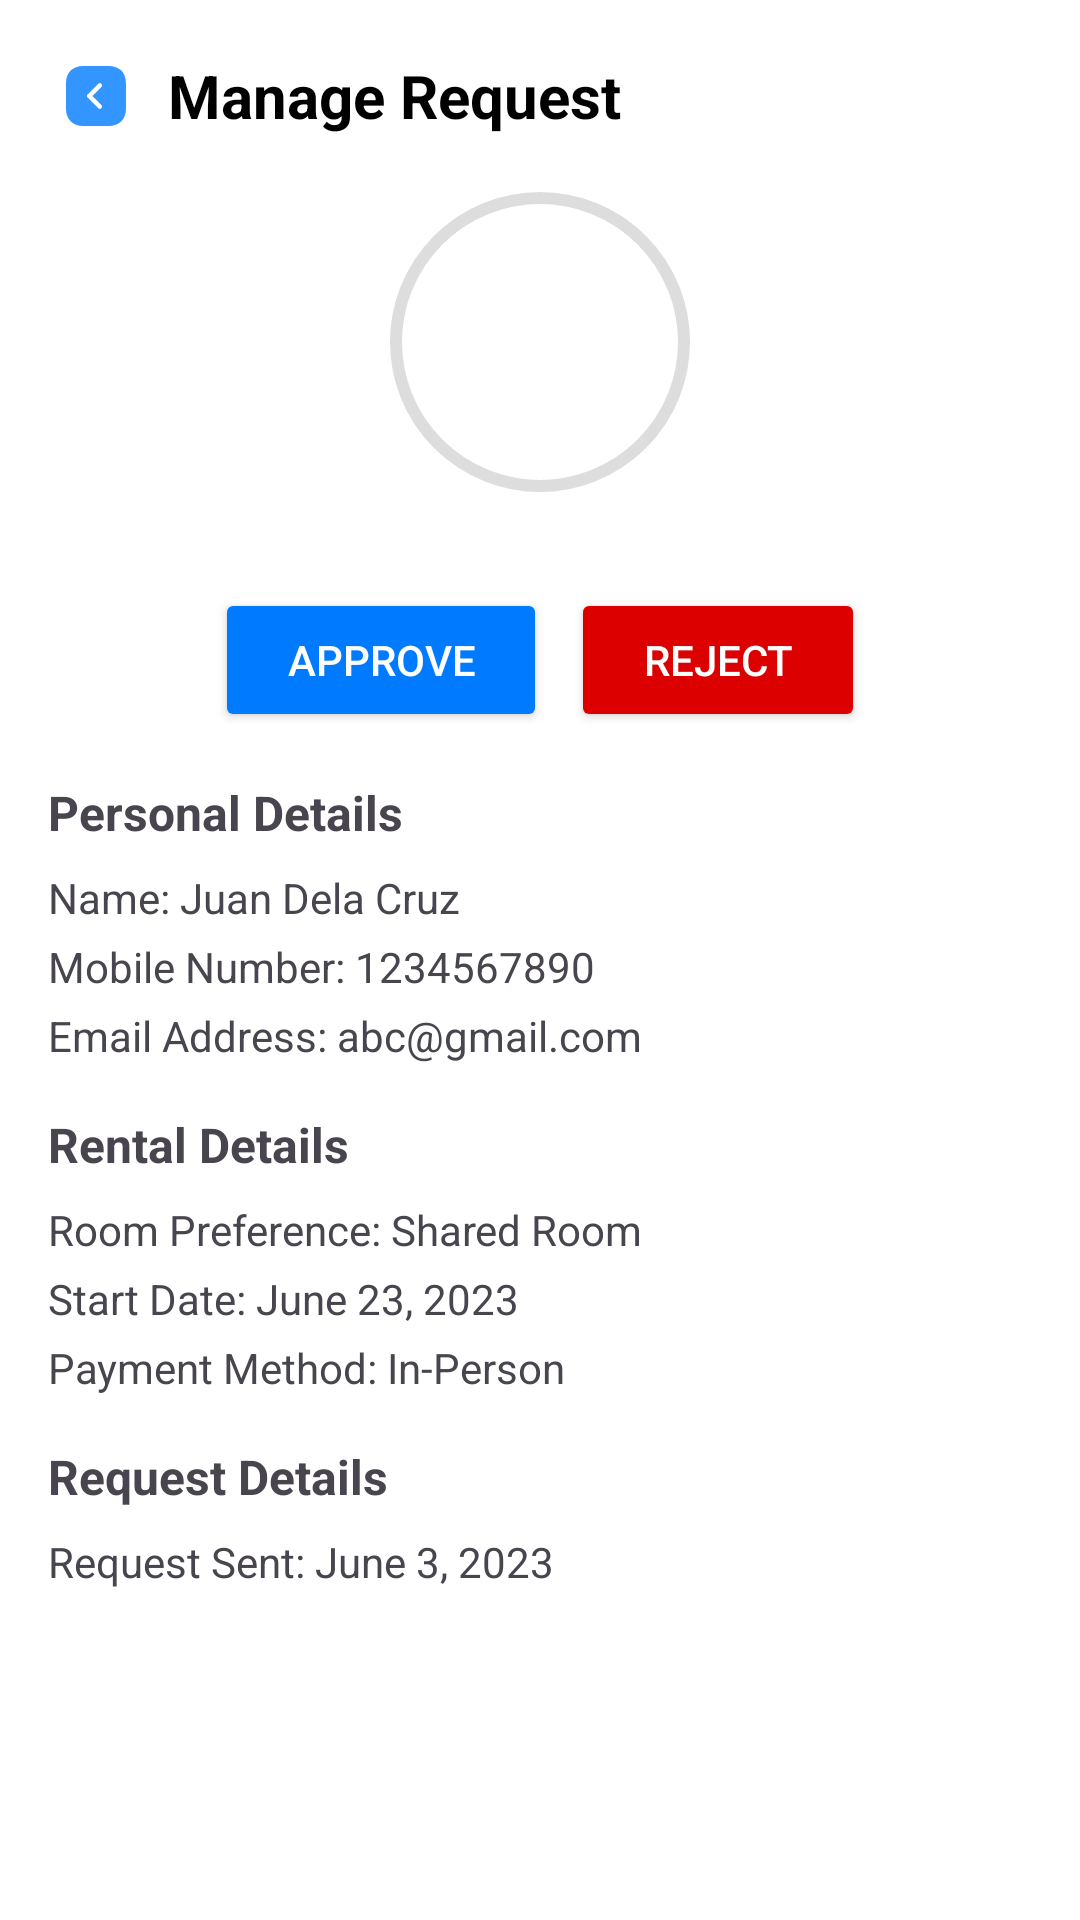

Where to tap for icons on this 1080*1920 app screen, as (x,y):
Back Button: (96,96)
